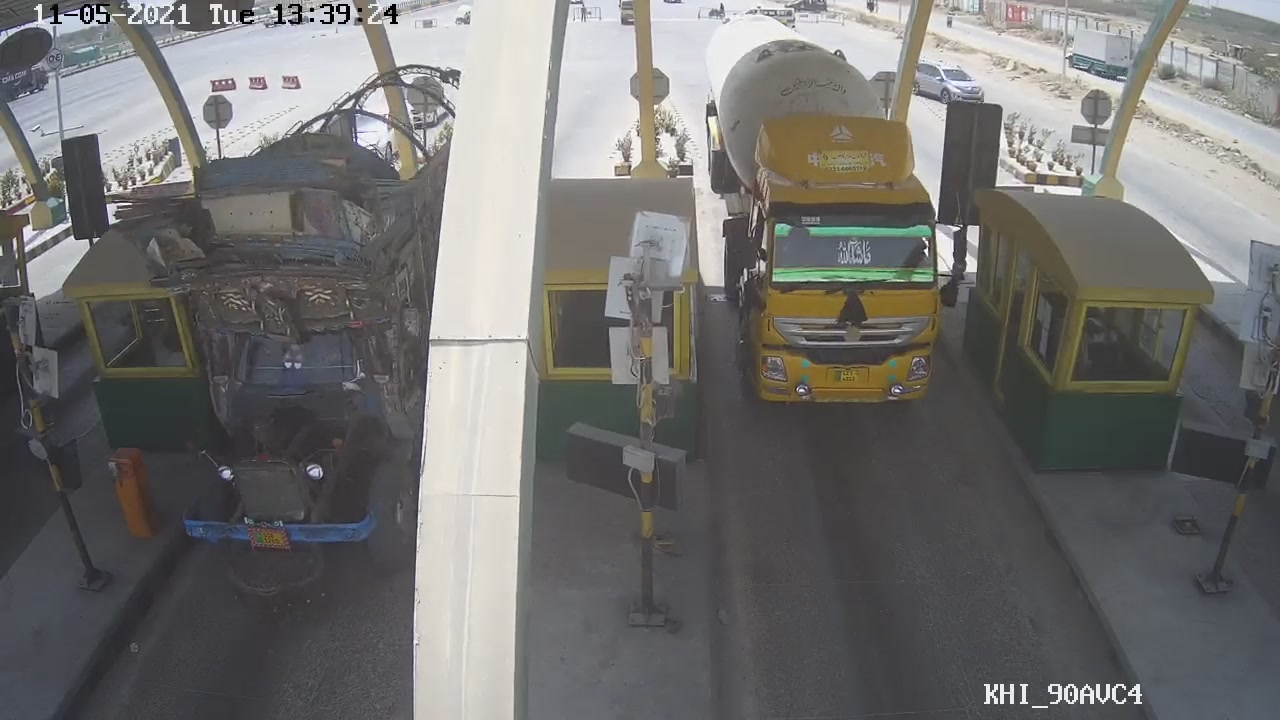F6: (707, 48, 967, 418)
